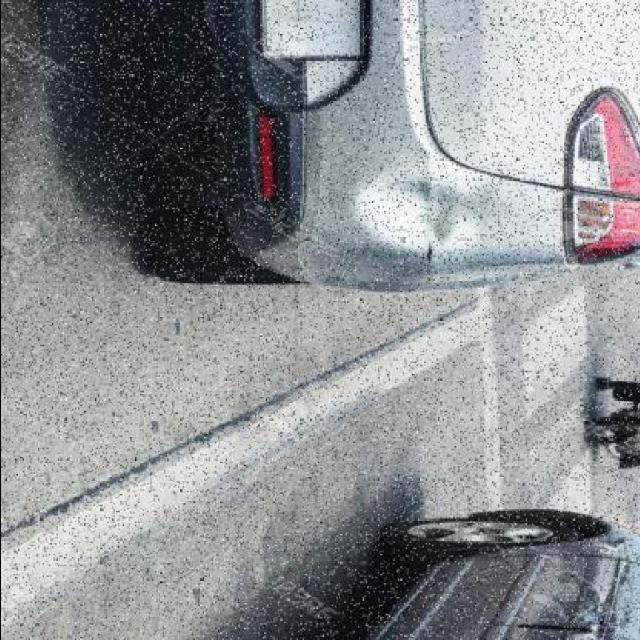rear-bumper-dent: (225, 0, 505, 286)
